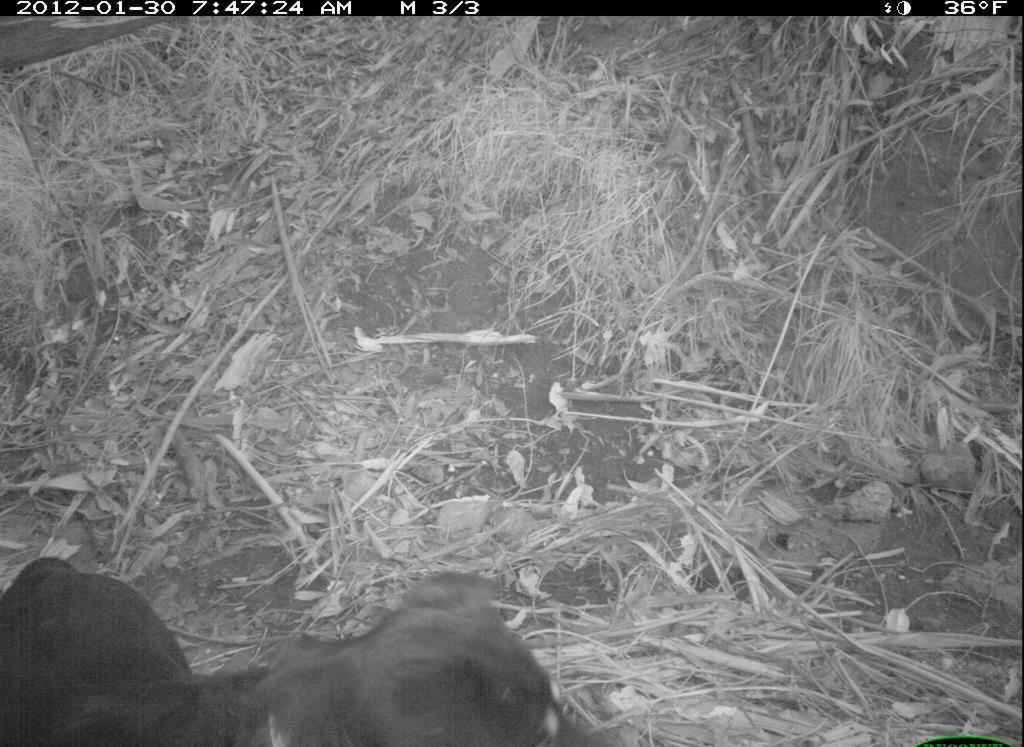dog: (1, 542, 612, 747)
